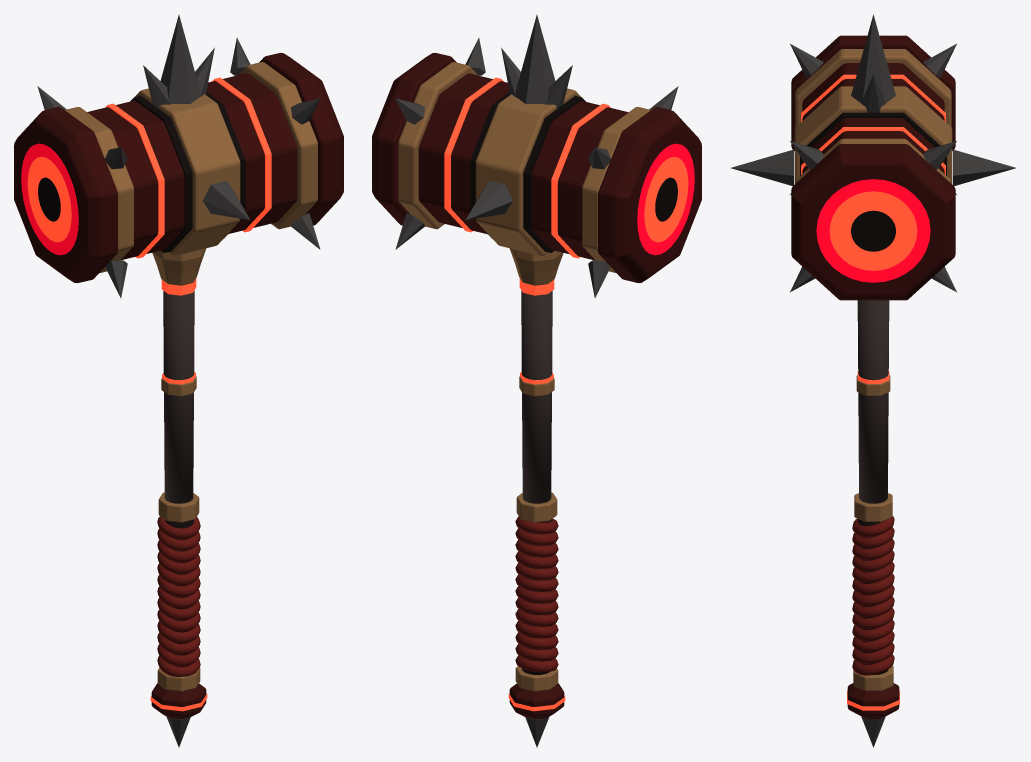
Rendered from hammer_darumaotoshi.fbx.
The picture shows the model from 3 angles, left to right: view 1: azimuth 30°, elevation 25°; view 2: azimuth 150°, elevation 25°; view 3: azimuth 270°, elevation 25°; orthographic projection.
Visible parts, largest first — view 1: darumaotoshi_hammer; view 2: darumaotoshi_hammer; view 3: darumaotoshi_hammer.
Part boxes in pixels (bbox=[...]): darumaotoshi_hammer: bbox=[14, 15, 343, 747]; darumaotoshi_hammer: bbox=[372, 15, 701, 747]; darumaotoshi_hammer: bbox=[731, 14, 1015, 747].
Size of the model in its own units: 1.13 by 3.05 by 1.08.
